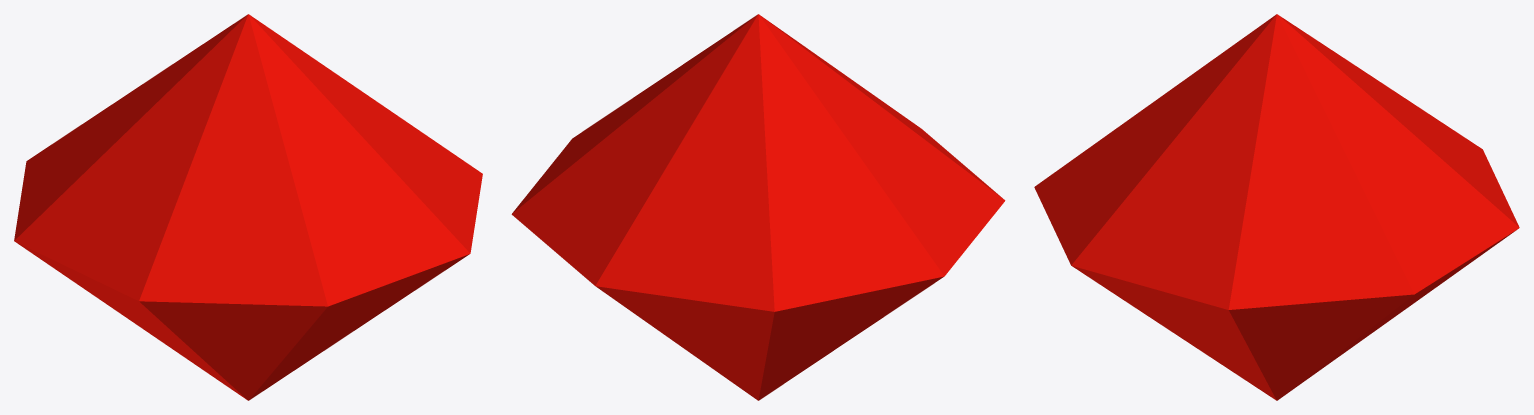
Rendered from Rhombus.fbx.
3 views of the same model, side by side, from view 1: azimuth 30°, elevation 25°; view 2: azimuth 150°, elevation 25°; view 3: azimuth 270°, elevation 25° (orthographic).
Parts seen in each view (by area): view 1: Rhombus; view 2: Rhombus; view 3: Rhombus.
Boxes of the visible parts, box(x1,y1,x2,y2) form: Rhombus: box(14, 14, 482, 400); Rhombus: box(511, 14, 1005, 400); Rhombus: box(1034, 14, 1519, 400).
Size of the model in its own units: 2.85 by 2.51 by 2.85.
